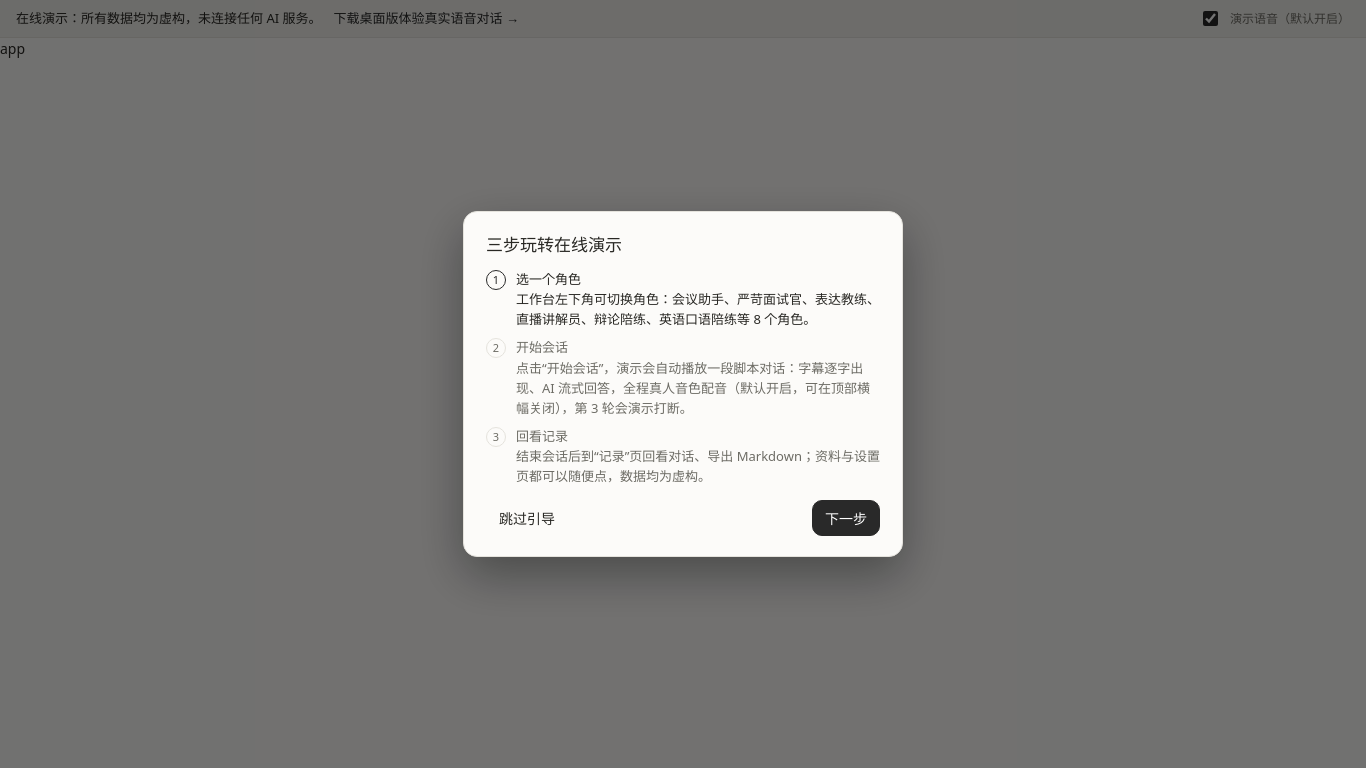
Test: DemoOverlay › shows a skippable 3-step onboarding on first visit and remembers the dismissal
Check: the dialog named "在线演示引导" shows "选一个角色", box [516,270,581,288]
Step 1. Click the button "下一步" → (846, 518), box [812,500,880,536]
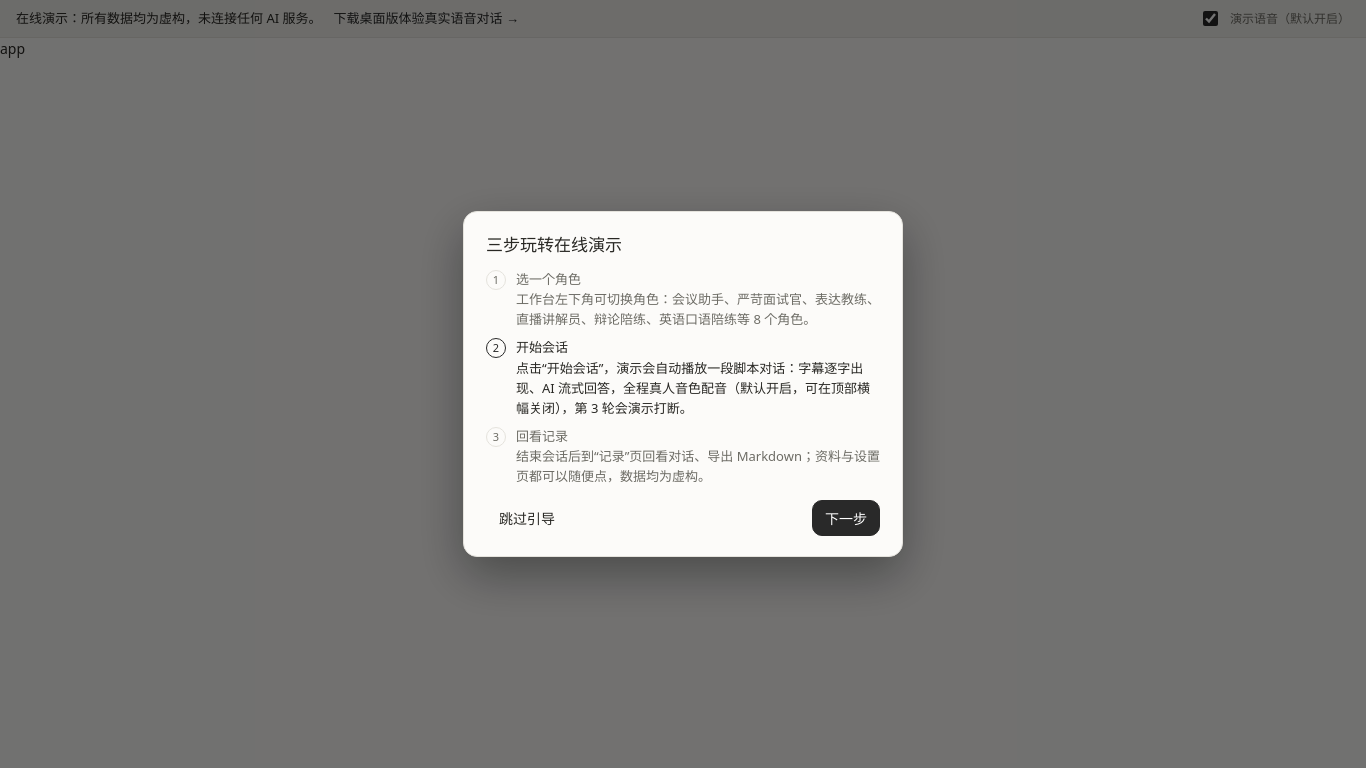
Check: the dialog named "在线演示引导" shows "开始会话", box [516,338,568,356]
Step 2. Click the button "跳过引导" → (527, 518), box [486,500,568,536]
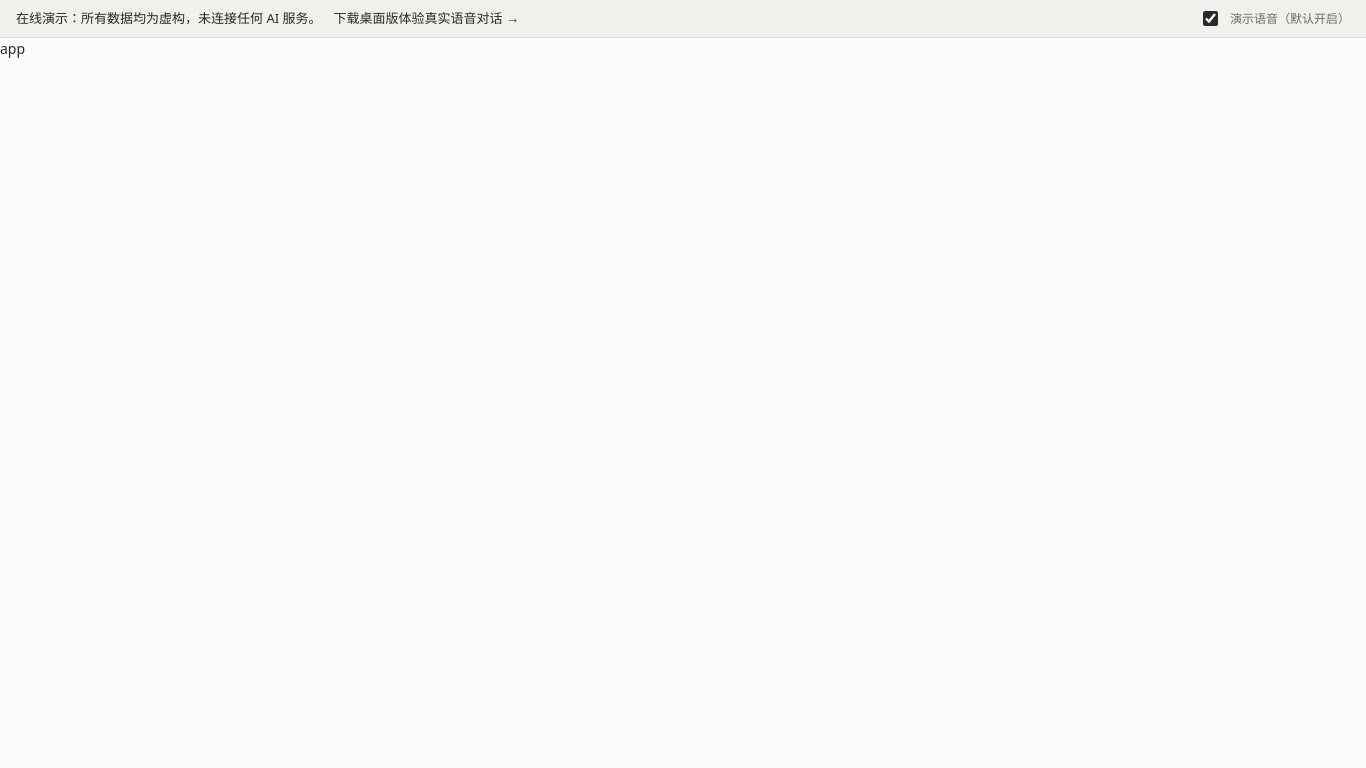
Check: the dialog "在线演示引导" is gone
